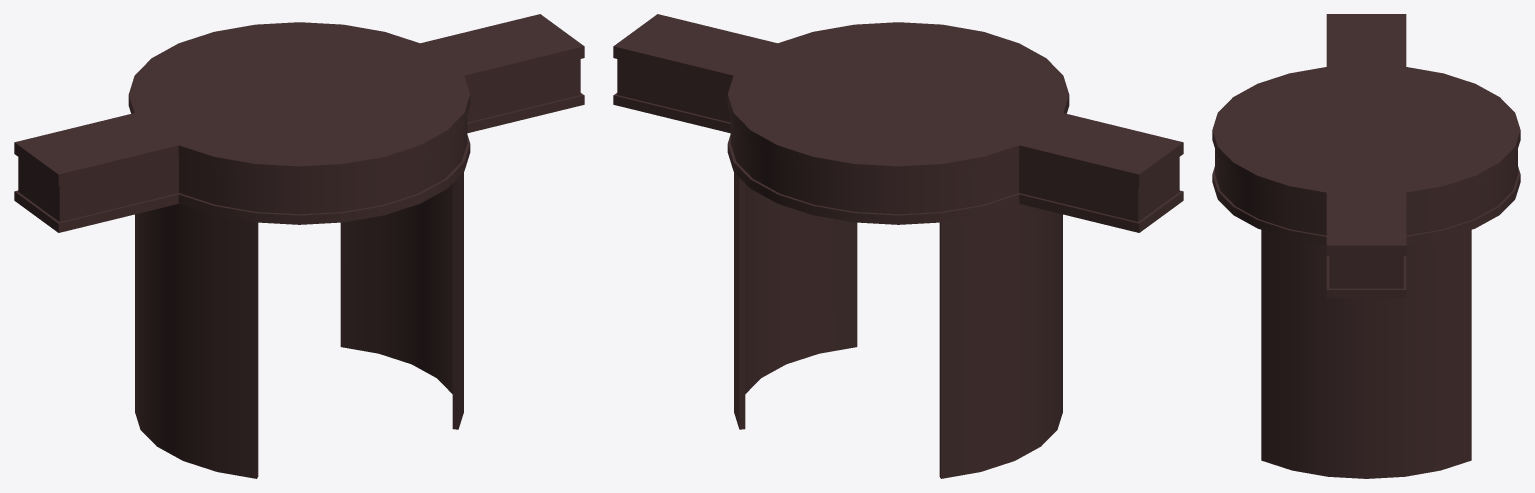
Rendered from RevolvingDoorFrame1.fbx.
3 views of the same model, side by side, from view 1: azimuth 30°, elevation 25°; view 2: azimuth 150°, elevation 25°; view 3: azimuth 270°, elevation 25° (orthographic). The views are drawn at different scales.
Parts seen in each view (by area): view 1: RevolvingDoorFrame1; view 2: RevolvingDoorFrame1; view 3: RevolvingDoorFrame1.
Boxes of the visible parts, bbox=[...] form: RevolvingDoorFrame1: bbox=[14, 14, 584, 478]; RevolvingDoorFrame1: bbox=[613, 14, 1183, 478]; RevolvingDoorFrame1: bbox=[1212, 14, 1520, 478].
Bounding box in the file's own units: 526 × 304 × 296.
